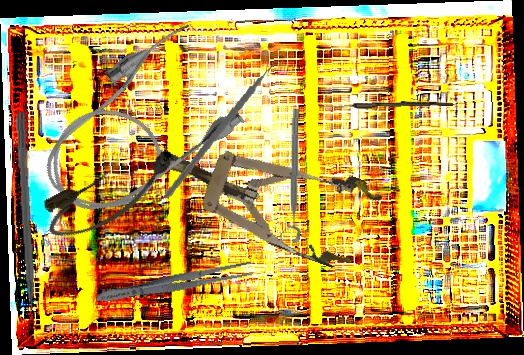Cannula: (17, 13, 257, 240), (36, 140, 188, 248)
Chopper: (164, 47, 291, 212)
Dressing Forceps: (94, 258, 255, 308)
Fixation Ring: (279, 108, 303, 243)
Pusher: (13, 110, 38, 340)
Speculum: (142, 111, 386, 276)
Surgical Spoon: (319, 99, 454, 111)
